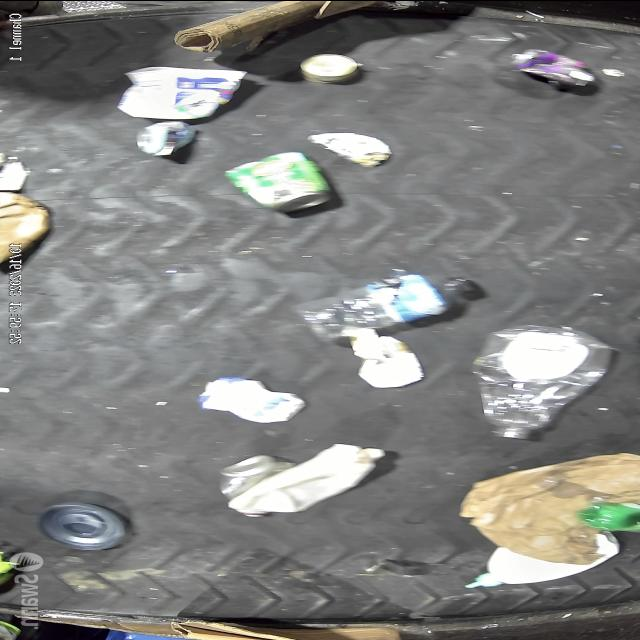can: (220, 151, 332, 213), (35, 502, 129, 551), (508, 48, 596, 90), (220, 456, 295, 500), (136, 120, 196, 156), (301, 53, 361, 83)
milk_jug: (227, 442, 387, 518)
plastic_bottle: (472, 324, 614, 438), (293, 272, 482, 342)
